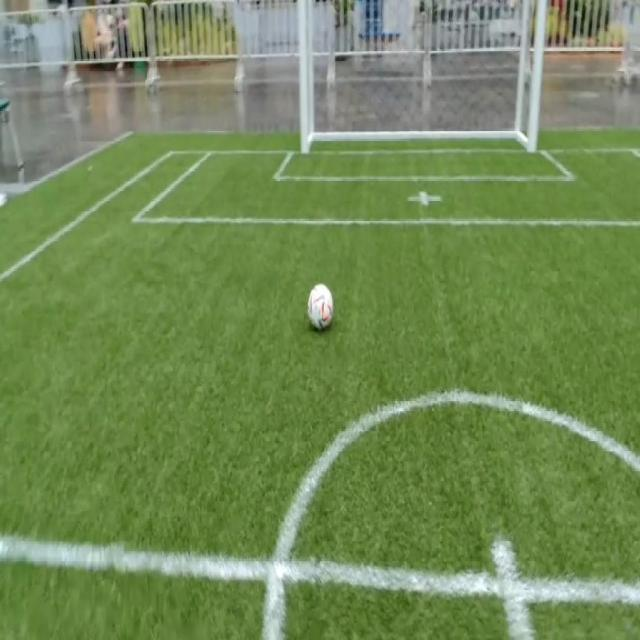ball: (309, 284, 333, 331)
goalpost: (524, 108, 541, 161), (298, 113, 312, 160)
